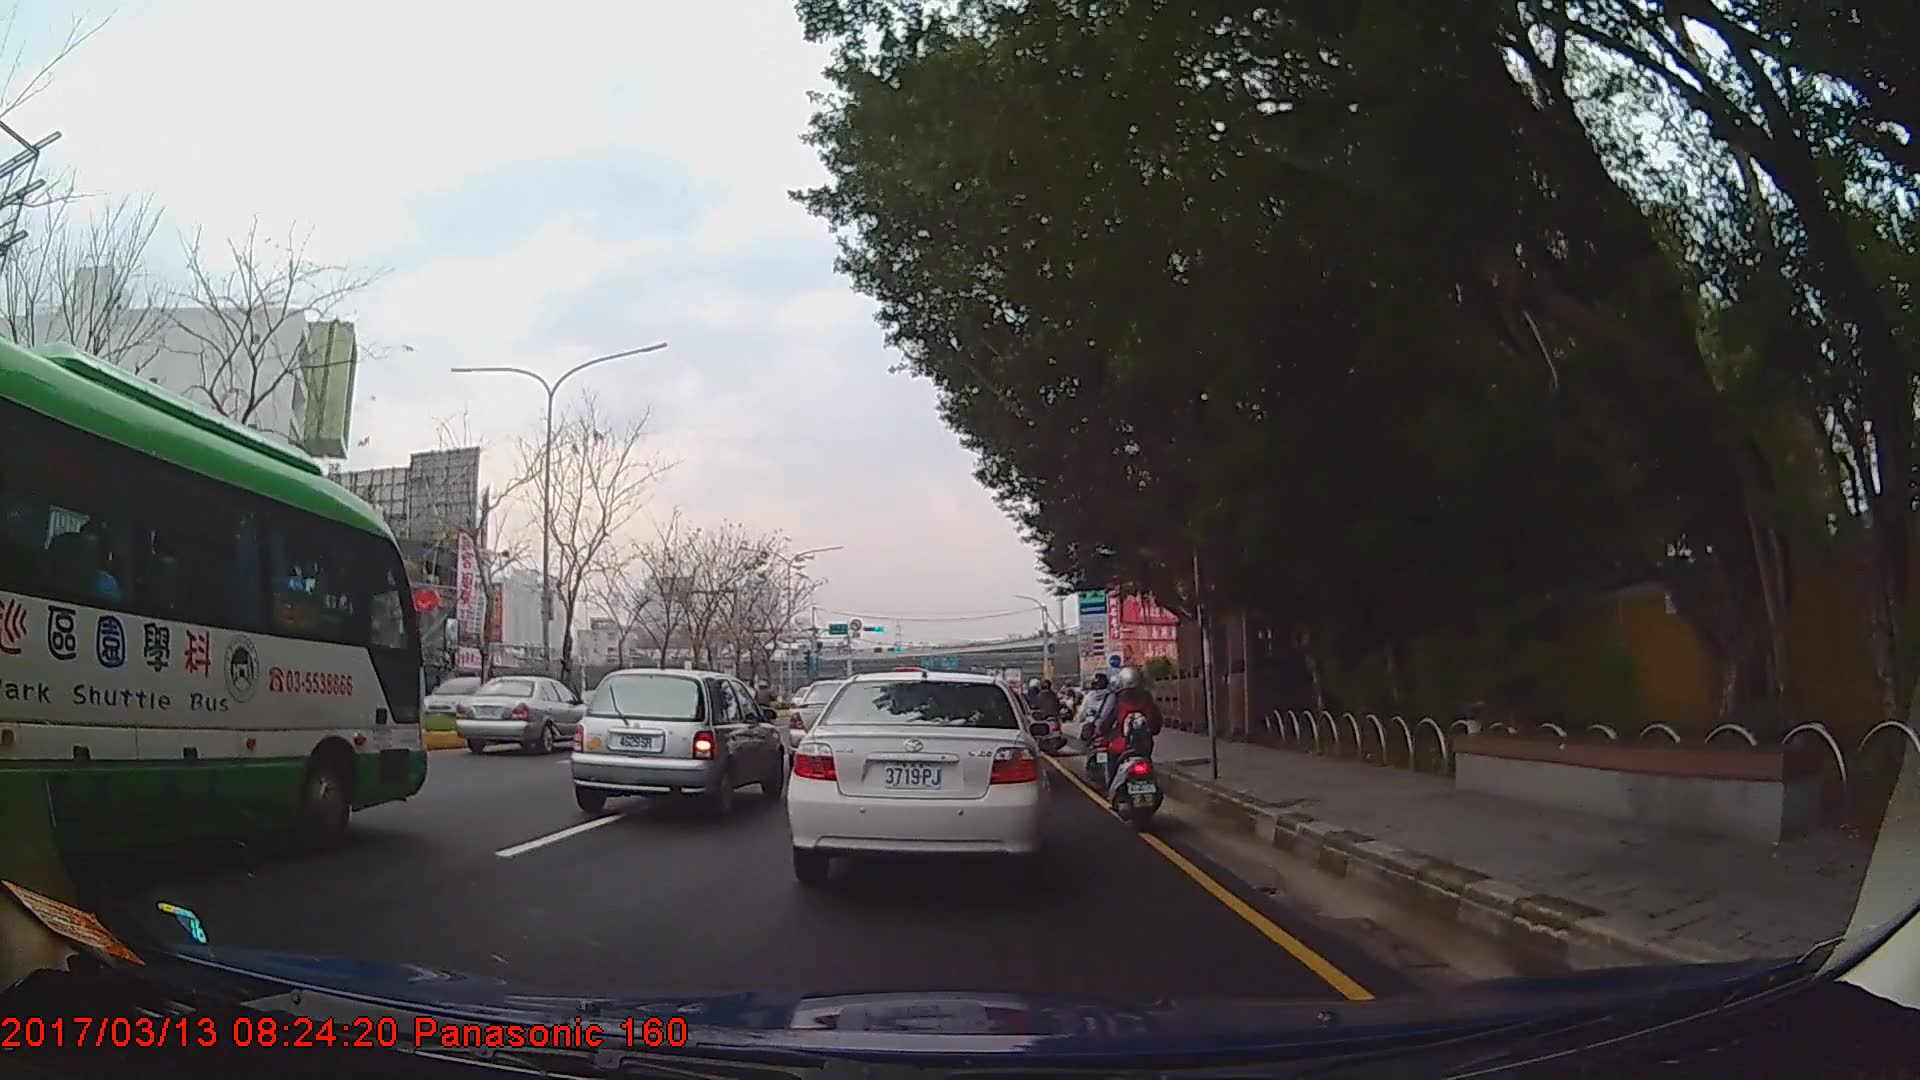rider: (1104, 661, 1164, 820), (1078, 673, 1123, 792), (1035, 676, 1062, 737)
vehicle: (0, 330, 427, 893), (784, 670, 1046, 881), (571, 666, 785, 818), (454, 672, 594, 756), (422, 672, 496, 726)
